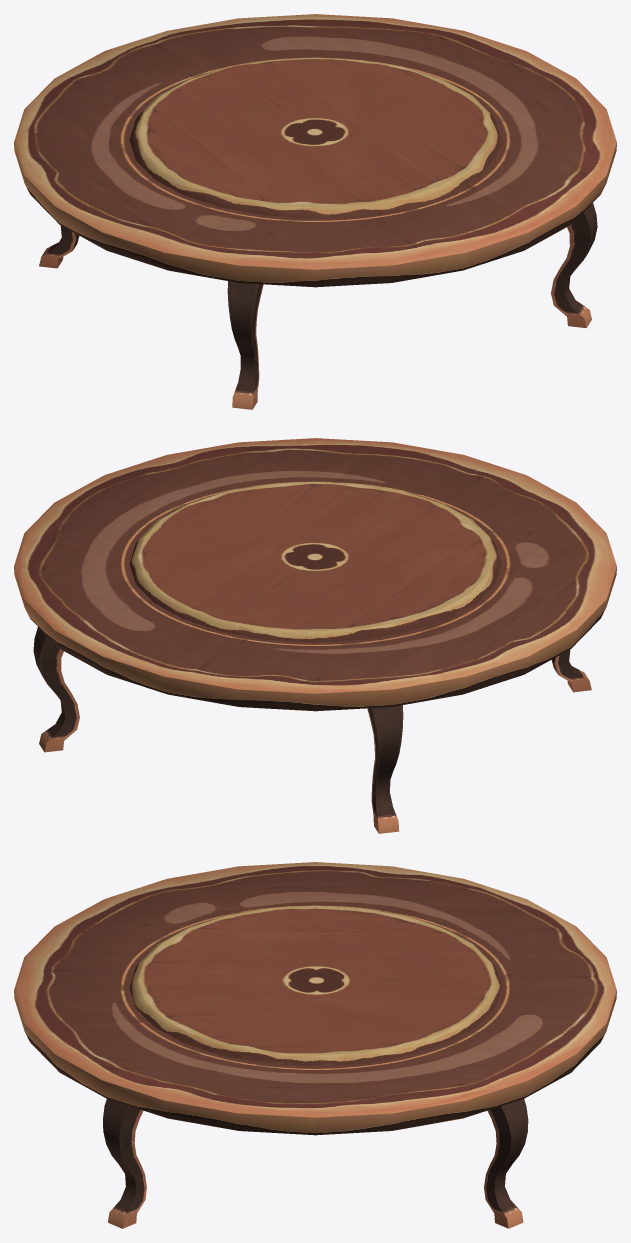
Rendered from Homeworld_Interior_Common_Table_Prop_Byuanzhuo_01_Vo.fbx.
The picture shows the model from 3 angles, top to bottom: view 1: azimuth 30°, elevation 25°; view 2: azimuth 150°, elevation 25°; view 3: azimuth 270°, elevation 25°; orthographic projection.
Parts seen in each view (by area): view 1: Homeworld_Interior_Common_Table_Prop_Byuanzhuo_01_Vo; view 2: Homeworld_Interior_Common_Table_Prop_Byuanzhuo_01_Vo; view 3: Homeworld_Interior_Common_Table_Prop_Byuanzhuo_01_Vo.
Part boxes in pixels (left/top/right/bottom): Homeworld_Interior_Common_Table_Prop_Byuanzhuo_01_Vo: left=14, top=14, right=616, bottom=409; Homeworld_Interior_Common_Table_Prop_Byuanzhuo_01_Vo: left=14, top=438, right=616, bottom=833; Homeworld_Interior_Common_Table_Prop_Byuanzhuo_01_Vo: left=14, top=862, right=616, bottom=1228.
Bounding box in the file's own units: 2.81 × 0.8247 × 2.81.
Materials: 1 (1 with a texture image).
